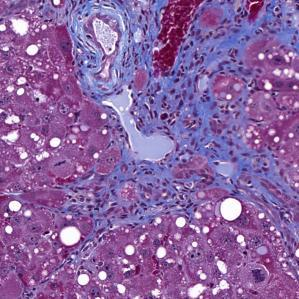fibrosis: (129, 92, 259, 175), (65, 19, 157, 88), (90, 180, 177, 228), (189, 26, 258, 82)
